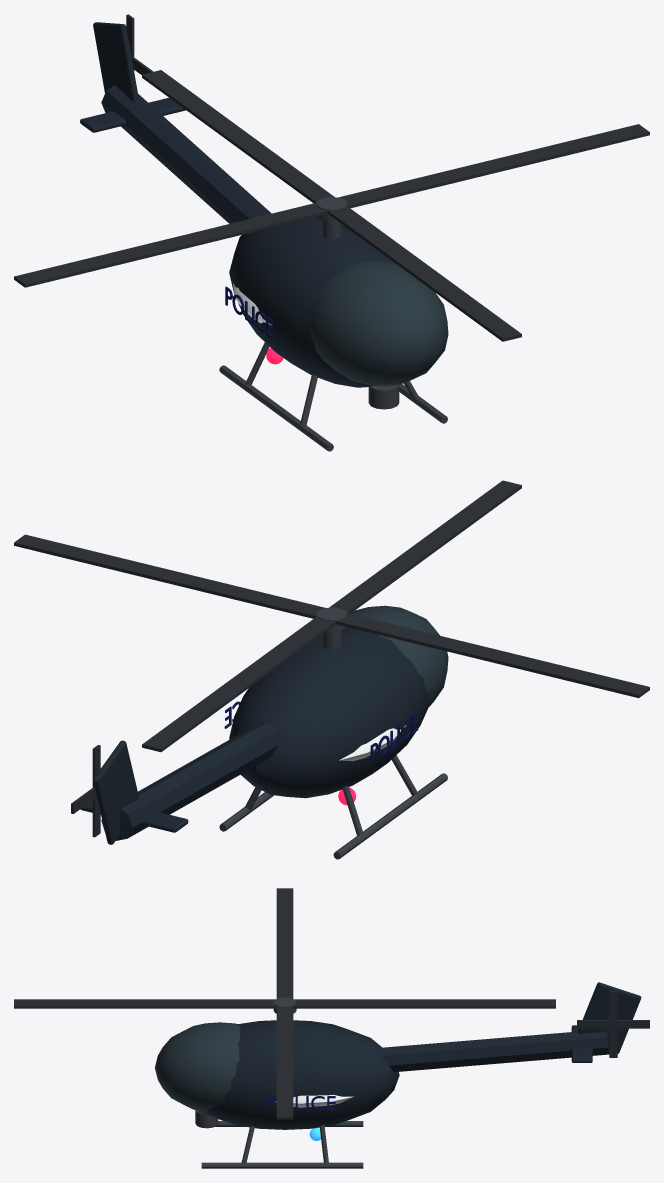
File: law_chopper.glb
3 renders of one model, top to bottom at view 1: azimuth 30°, elevation 25°; view 2: azimuth 150°, elevation 25°; view 3: azimuth 270°, elevation 25°, orthographic. The views are drawn at different scales.
Visible parts, largest first — view 1: LawChopper_body, Rotor; view 2: LawChopper_body, Rotor, TailRotor; view 3: LawChopper_body, Rotor, TailRotor.
Boxes of the visible parts, x1,y1,x2,y2 form: LawChopper_body: (80, 22, 448, 451); Rotor: (14, 70, 649, 341); LawChopper_body: (80, 605, 448, 859); Rotor: (14, 480, 649, 752); TailRotor: (71, 745, 100, 837); LawChopper_body: (155, 982, 641, 1168); Rotor: (14, 888, 555, 1119); TailRotor: (577, 991, 649, 1057).
Size of the model in its own units: 10.4 by 3.49 by 12.2.
